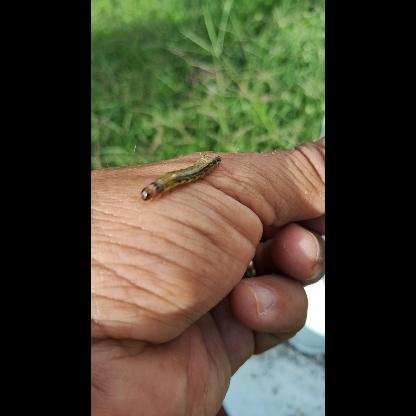Fall Armyworm Larvae: (139, 148, 225, 204)
